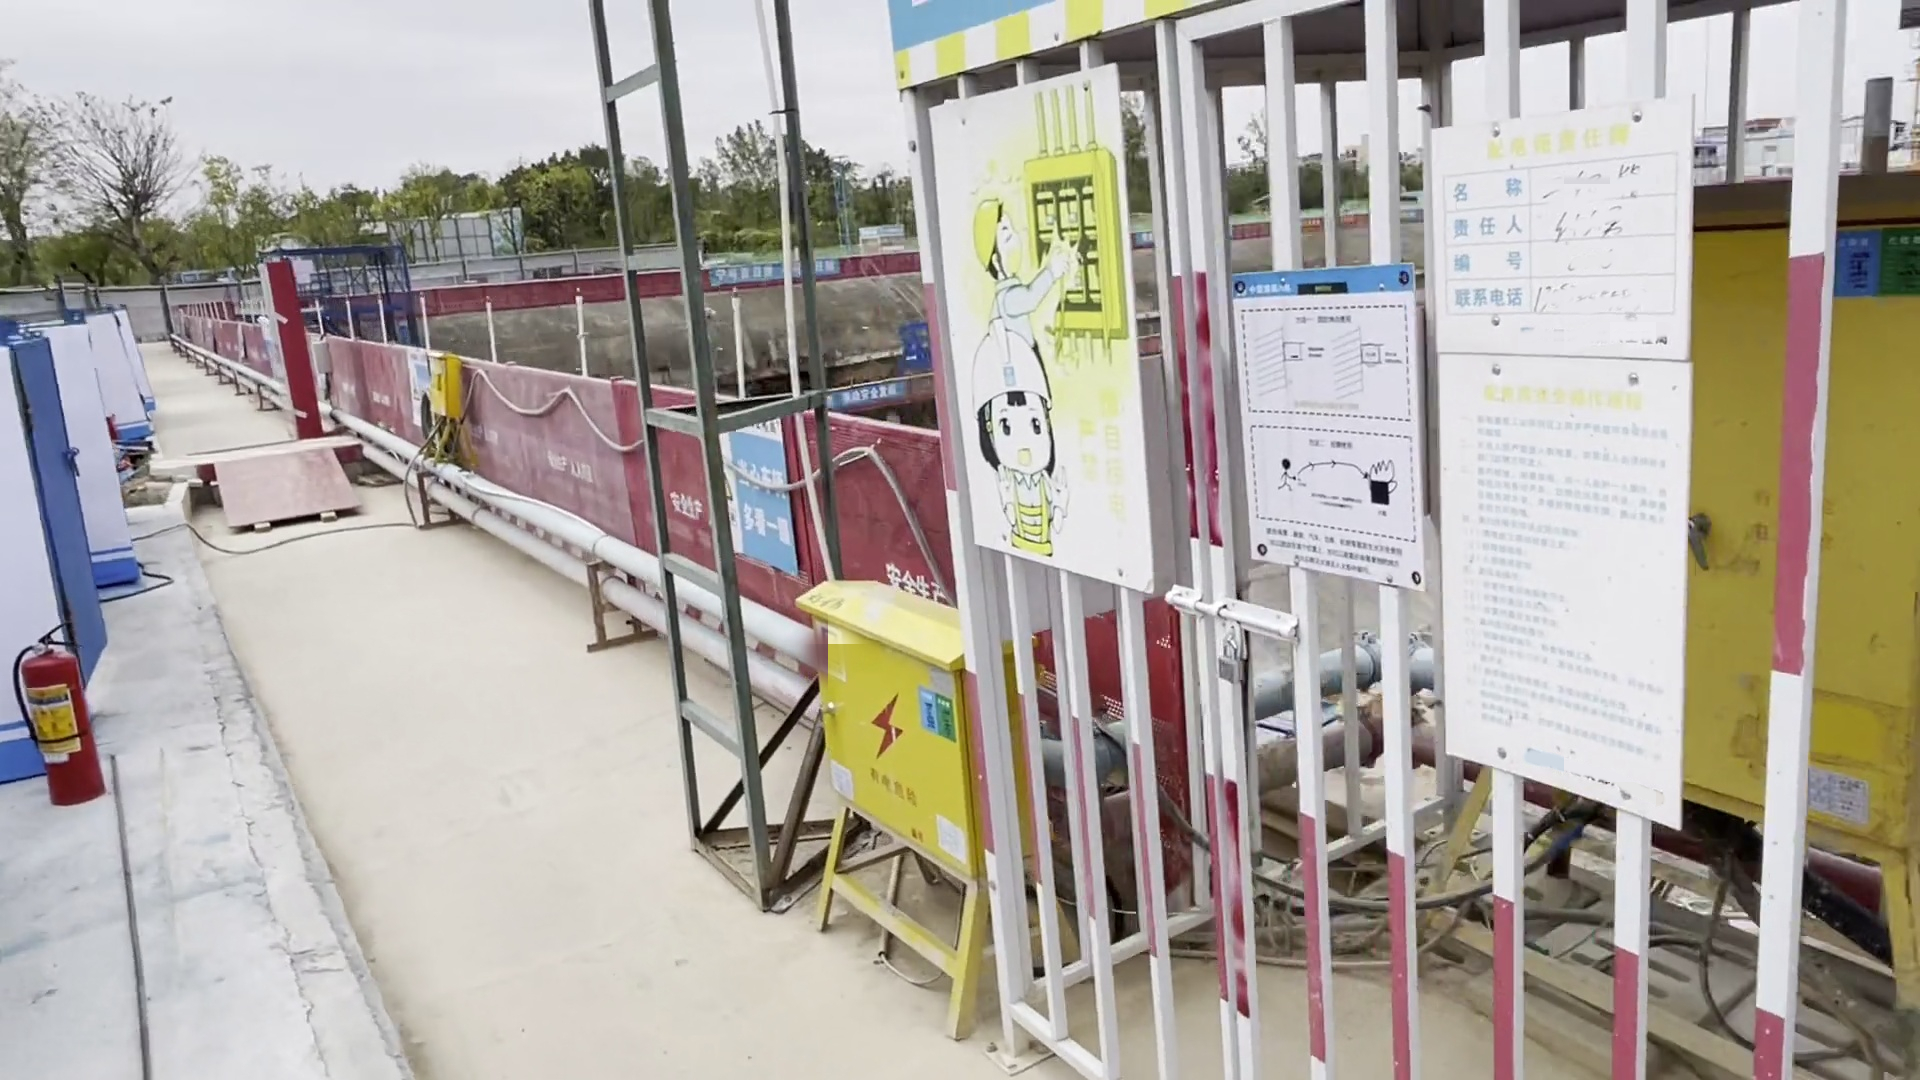board: (206, 442, 367, 545)
ebox: (1696, 171, 1917, 1062), (781, 567, 1004, 1046), (426, 347, 473, 456)
slogan: (903, 70, 1178, 596), (669, 407, 822, 582), (703, 261, 851, 284)
